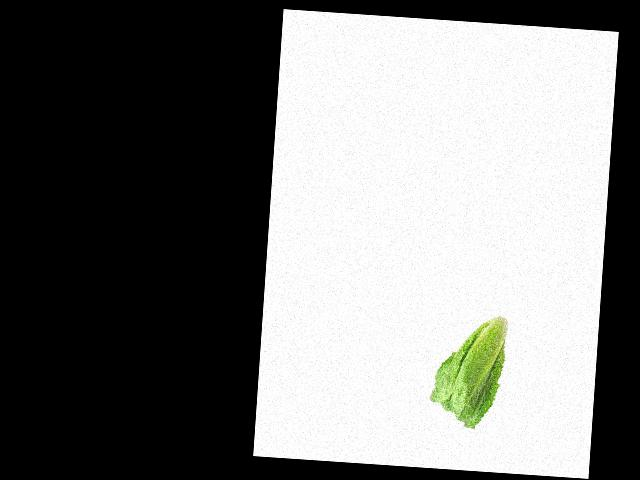lettuce: (429, 307, 515, 427)
